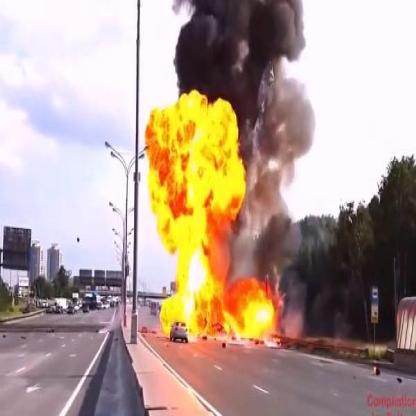fire: (144, 80, 284, 345)
